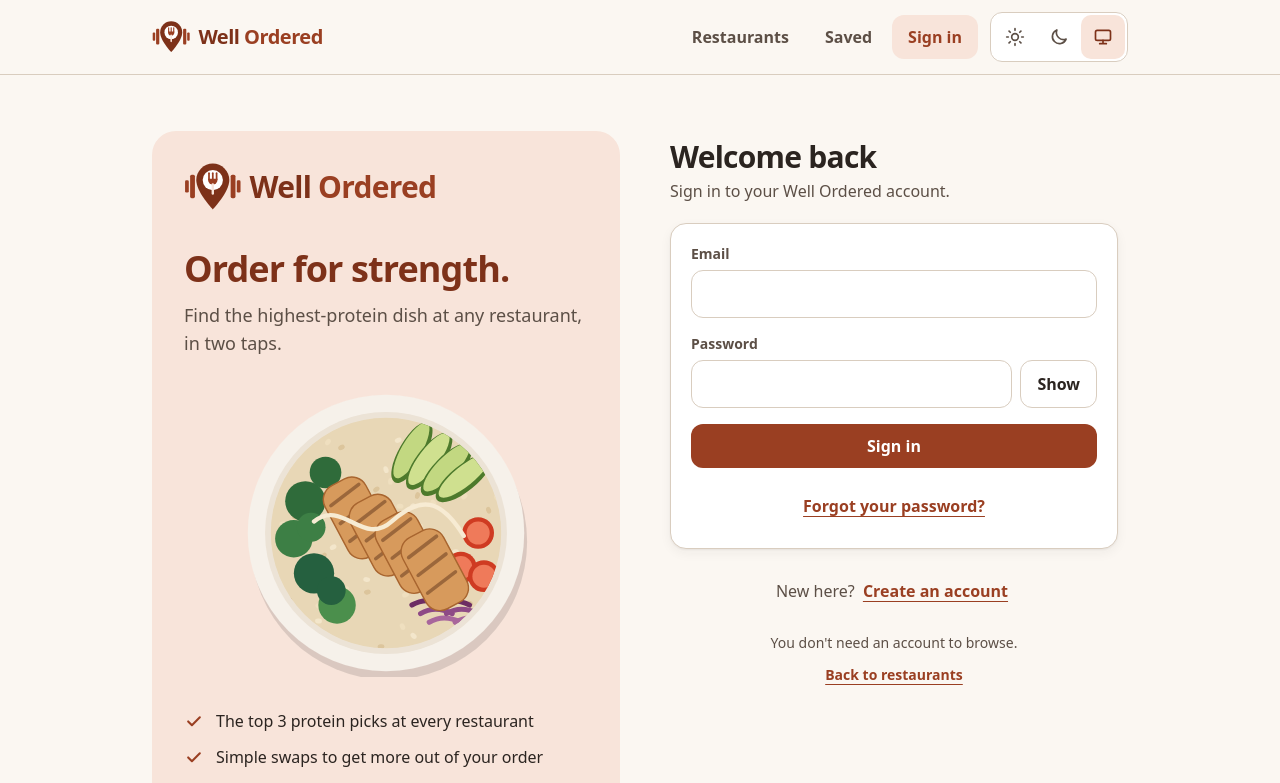
Test: login screen › returns to the page someone was trying to reach
The image size is (1280, 783).
Type "pat@example.com" into the field labelled "Email" at coordinates (894, 294), box [691,270,1097,318]
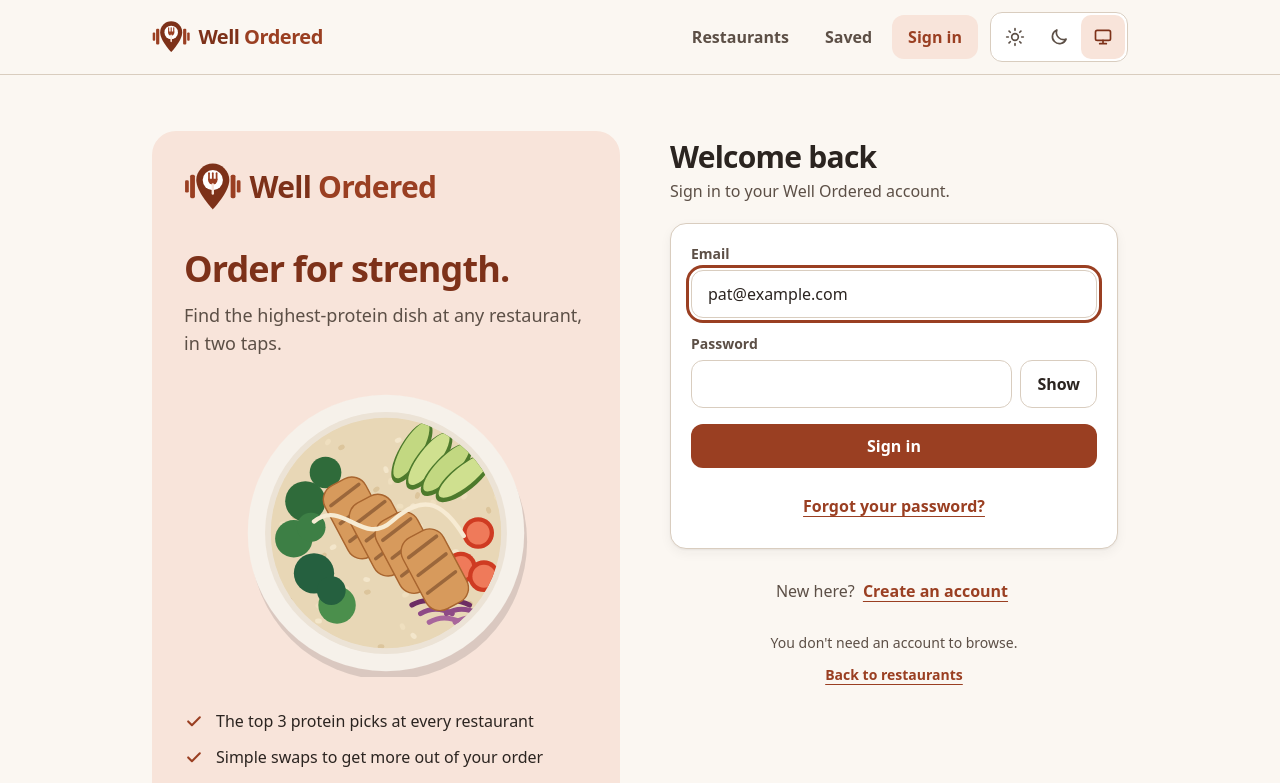
Type "correct-horse" into the password field labelled "Password" at coordinates (852, 384), box [691,360,1012,408]
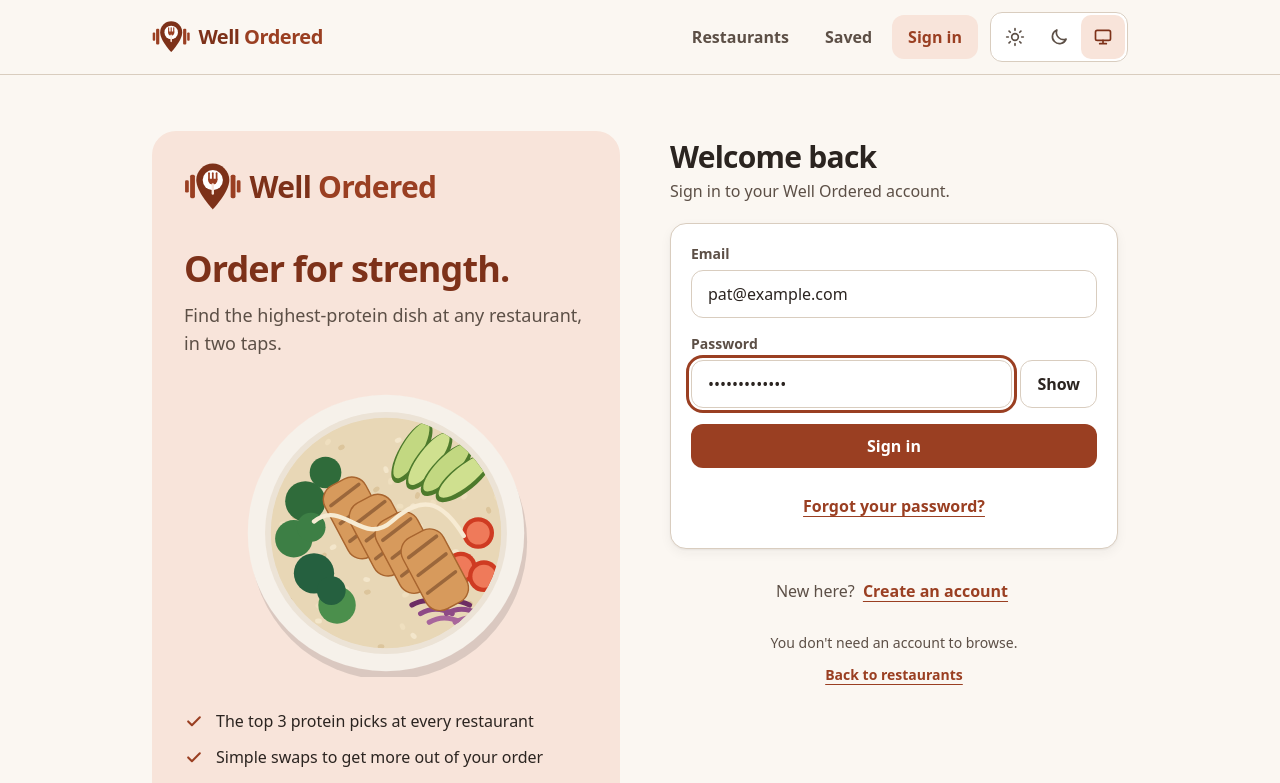
Click the button "Sign in" at coordinates (894, 446), box [691,424,1097,468]
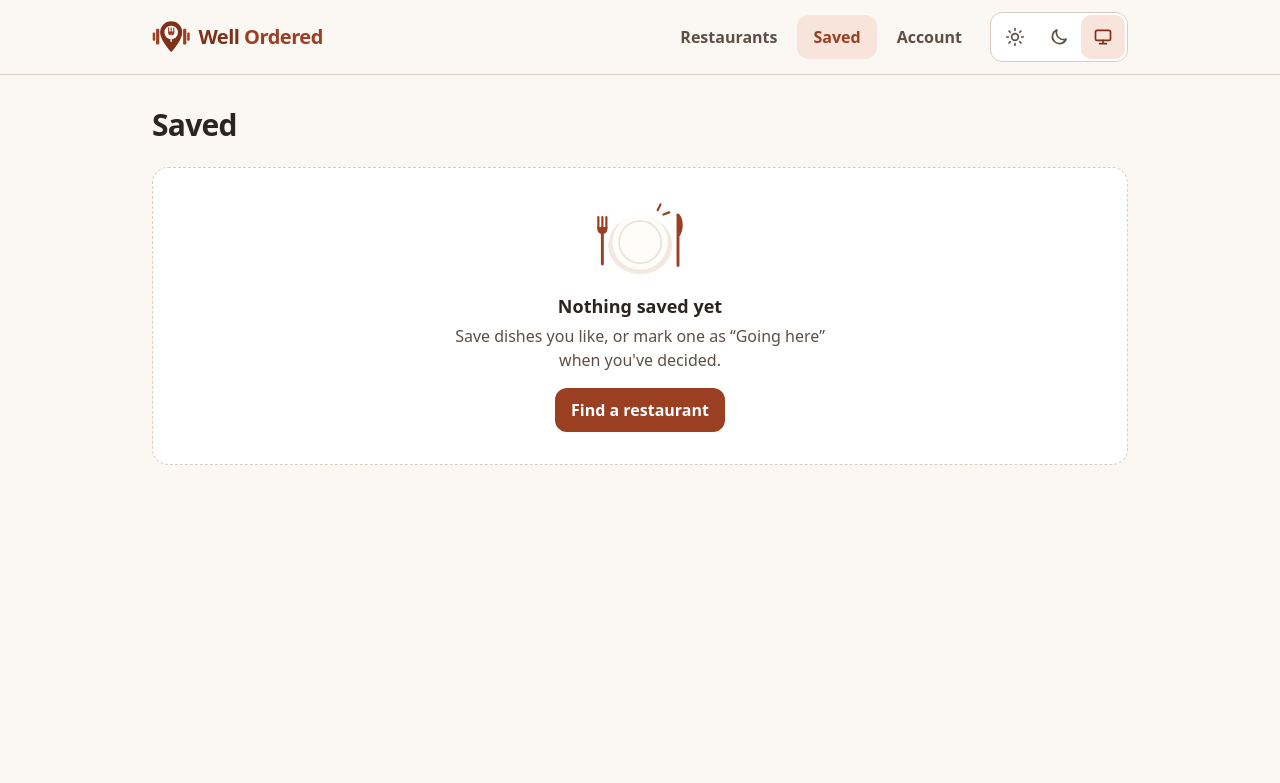
Expected: the heading "Saved" is shown, [152,104,237,145]
